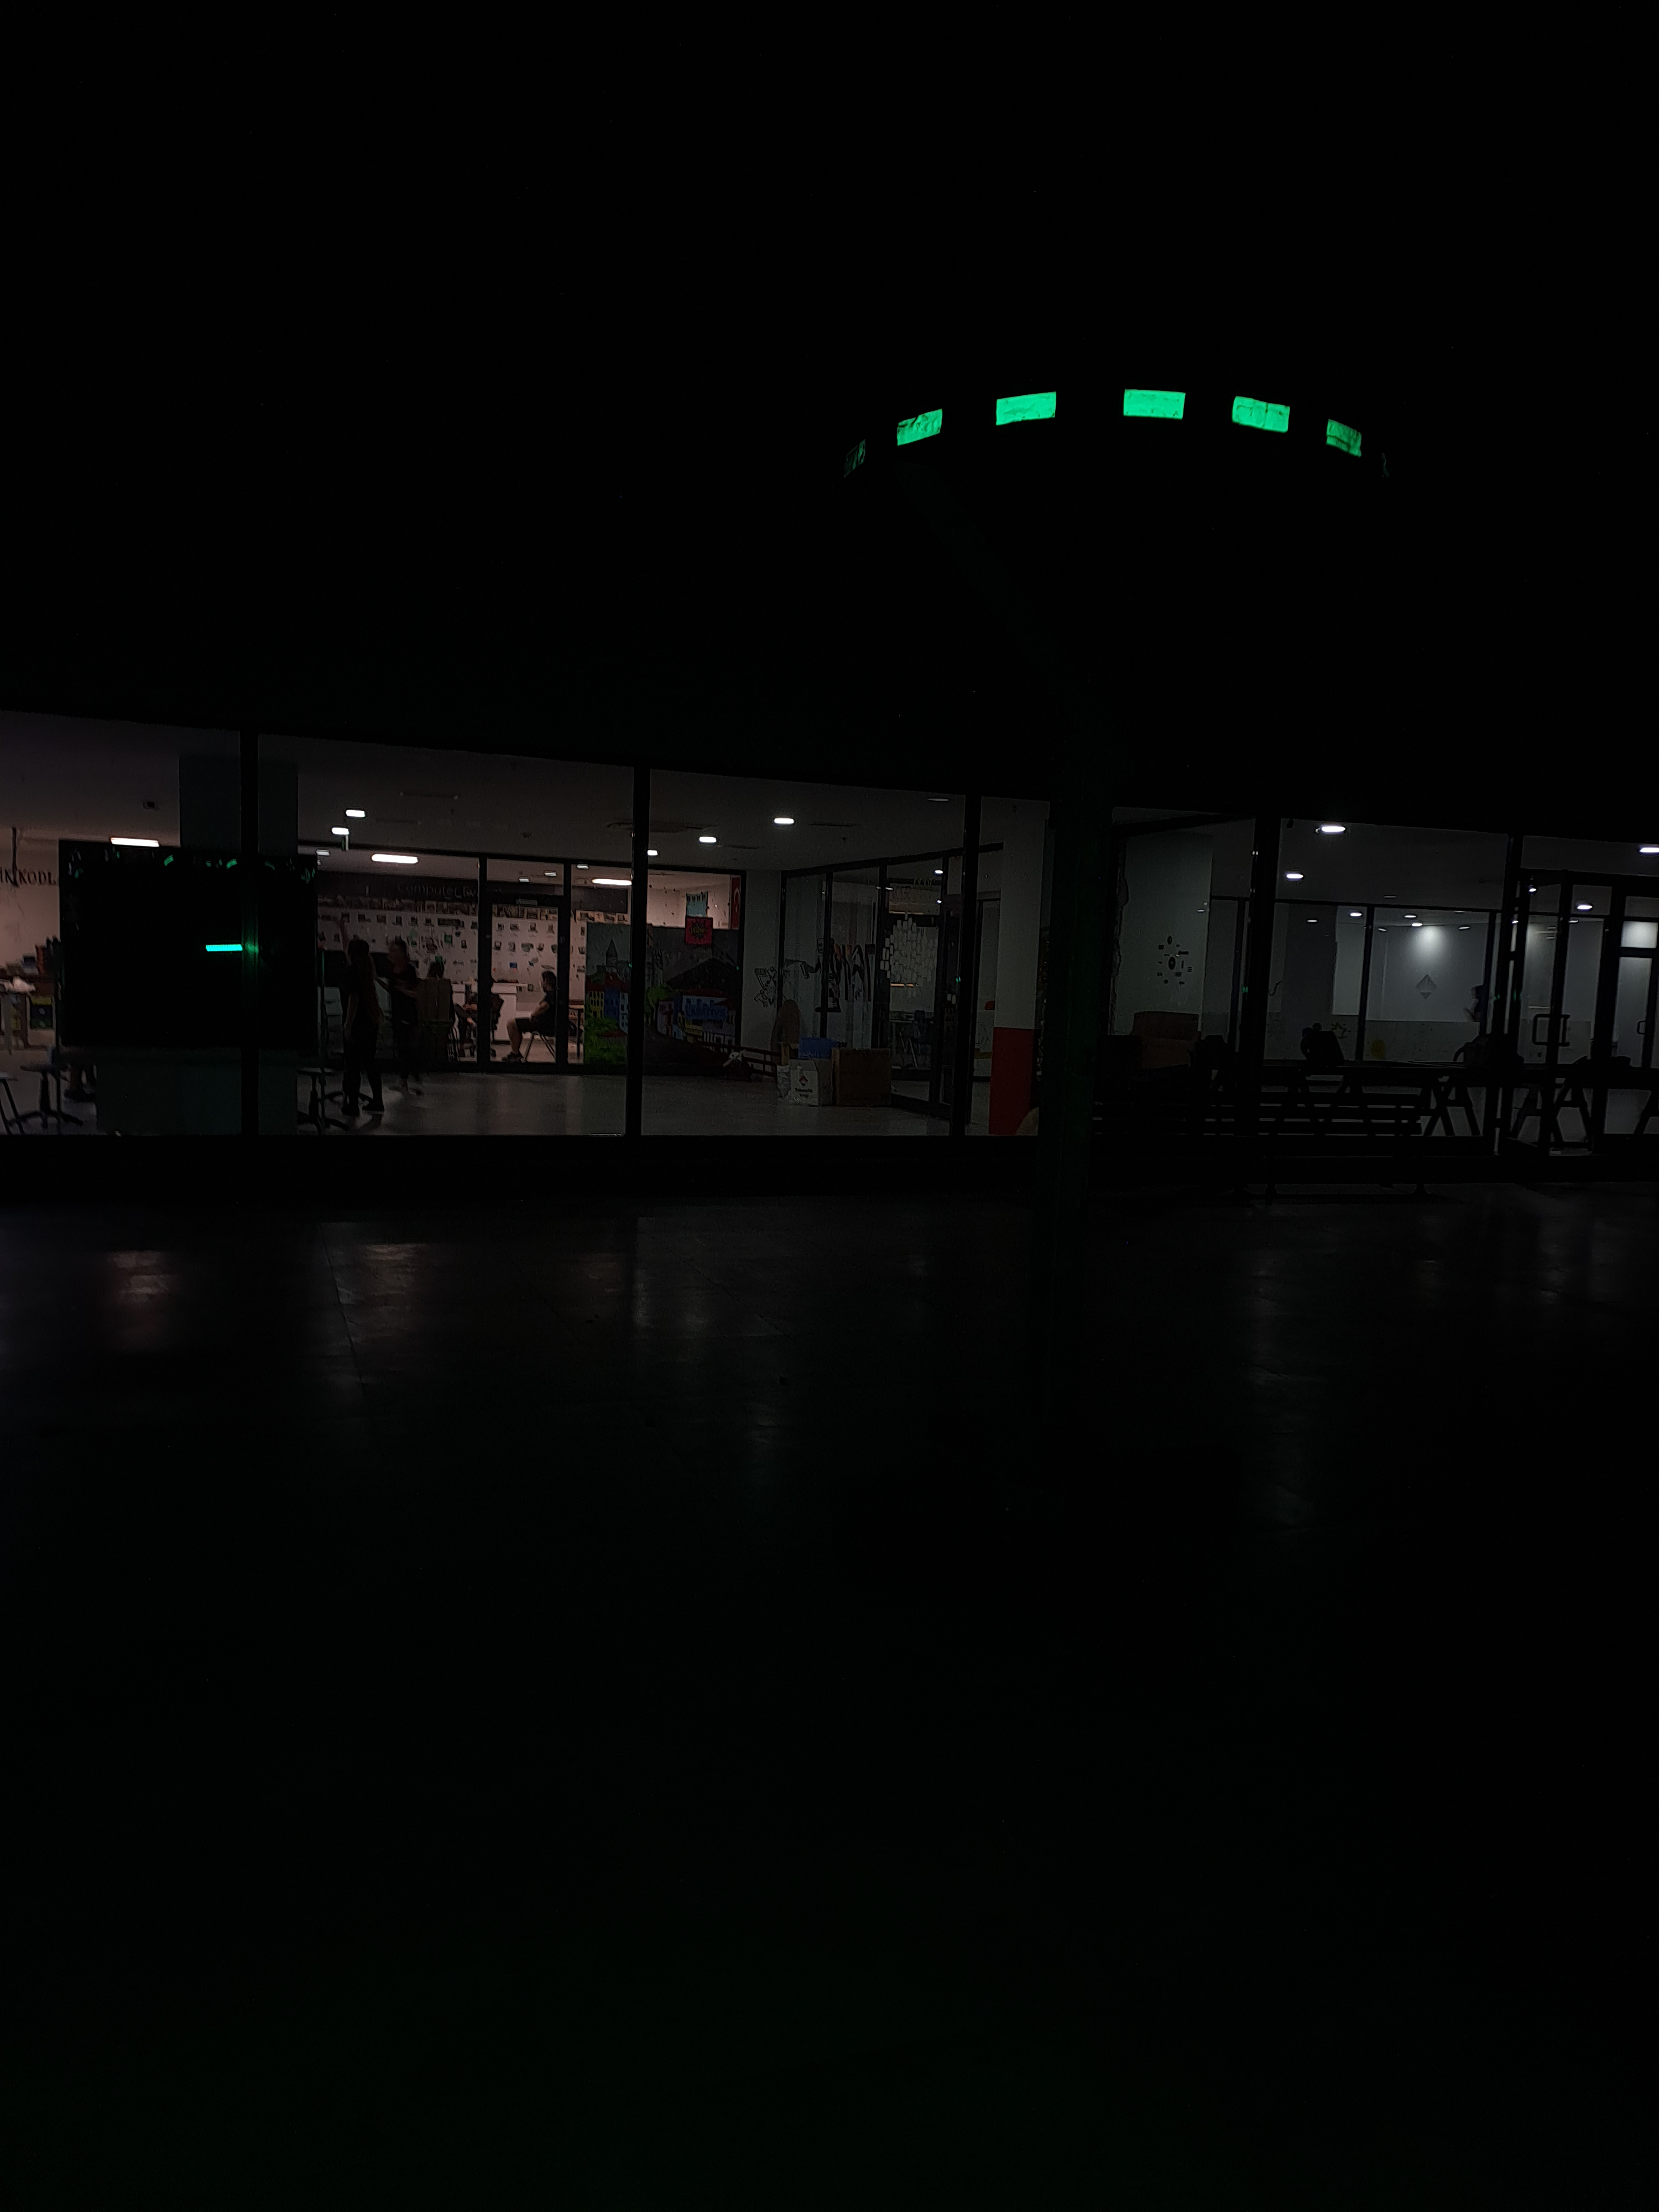hoop: (882, 373, 1366, 486)
